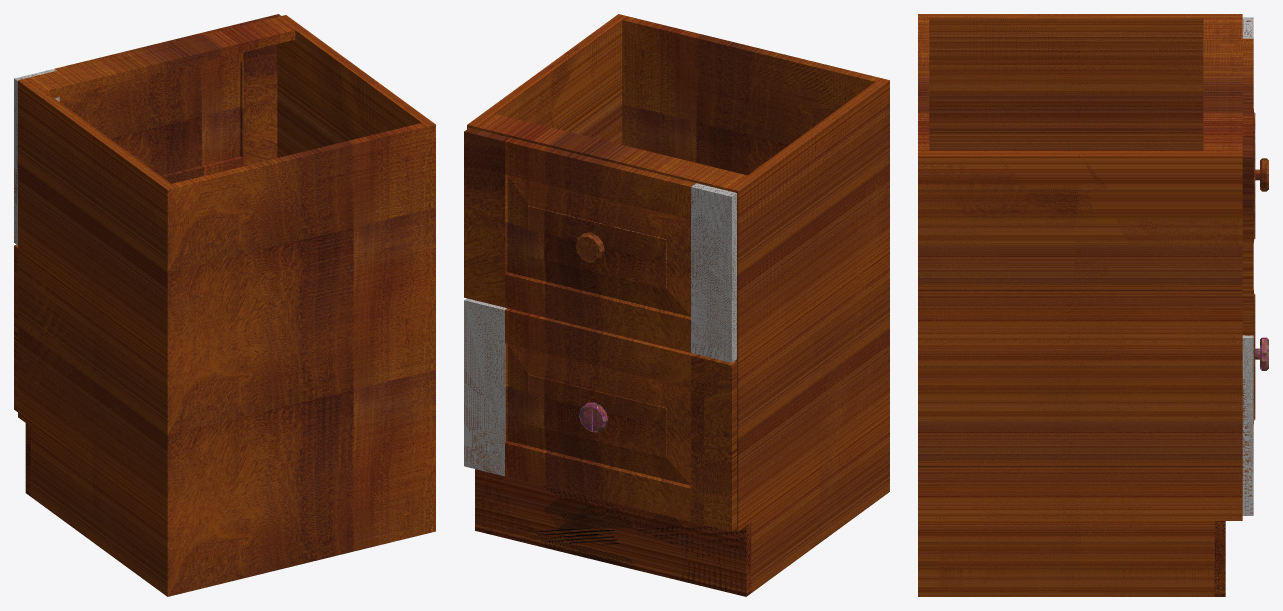
The picture shows the model from 3 angles, left to right: view 1: azimuth 30°, elevation 25°; view 2: azimuth 150°, elevation 25°; view 3: azimuth 270°, elevation 25°; orthographic projection. The views are drawn at different scales.
Visible parts, largest first — view 1: mesh3_mesh3-geometry, mesh1_mesh1-geometry, mesh4_mesh4-geometry; view 2: mesh3_mesh3-geometry, mesh1_mesh1-geometry, mesh4_mesh4-geometry, mesh5_mesh5-geometry, mesh2_mesh2-geometry; view 3: mesh3_mesh3-geometry, mesh1_mesh1-geometry, mesh4_mesh4-geometry.
Boxes of the visible parts, x1,y1,x2,y2 form: mesh3_mesh3-geometry: [18, 15, 435, 596]; mesh1_mesh1-geometry: [14, 14, 280, 245]; mesh4_mesh4-geometry: [14, 244, 17, 411]; mesh3_mesh3-geometry: [467, 14, 889, 596]; mesh1_mesh1-geometry: [464, 128, 736, 362]; mesh4_mesh4-geometry: [464, 298, 736, 531]; mesh5_mesh5-geometry: [579, 402, 607, 432]; mesh2_mesh2-geometry: [575, 232, 604, 262]; mesh3_mesh3-geometry: [918, 14, 1242, 596]; mesh1_mesh1-geometry: [1242, 17, 1255, 335]; mesh4_mesh4-geometry: [1242, 290, 1255, 515].
Size of the model in its own units: 0.4882 by 0.7079 by 0.5103.
